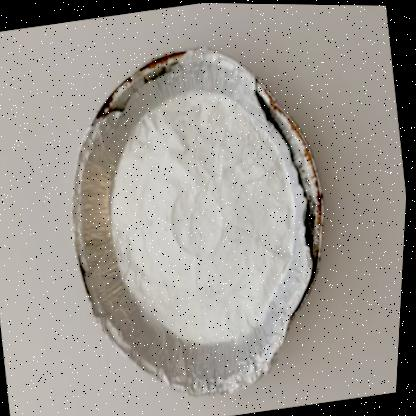Metal: (73, 46, 325, 394)
